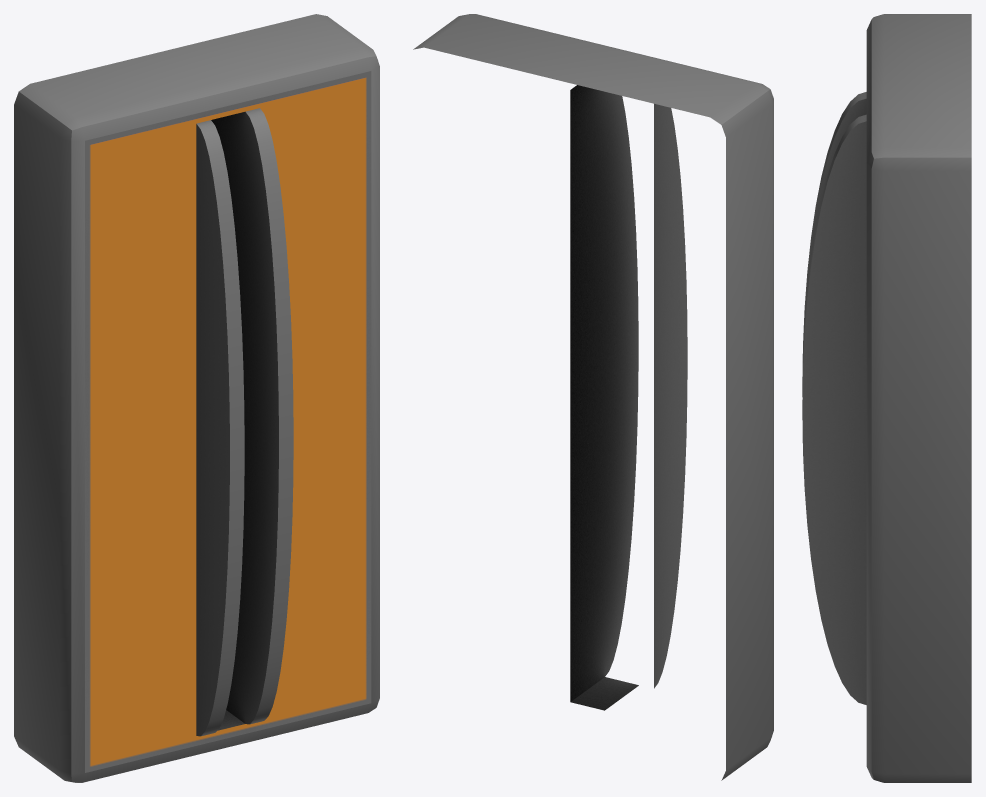
File: switchbase.gltf
The picture shows the model from 3 angles, left to right: view 1: azimuth 30°, elevation 25°; view 2: azimuth 150°, elevation 25°; view 3: azimuth 270°, elevation 25°; orthographic projection. The views are drawn at different scales.
Visible parts, largest first — view 1: SwitchBase; view 2: SwitchBase; view 3: SwitchBase.
Part boxes in pixels (x1,y1,x2,y2): SwitchBase: [14, 14, 379, 782]; SwitchBase: [413, 14, 773, 780]; SwitchBase: [802, 14, 971, 782].
Size of the model in its own units: 0.2 by 0.4 by 0.0966.
1 material, 1 textured.
